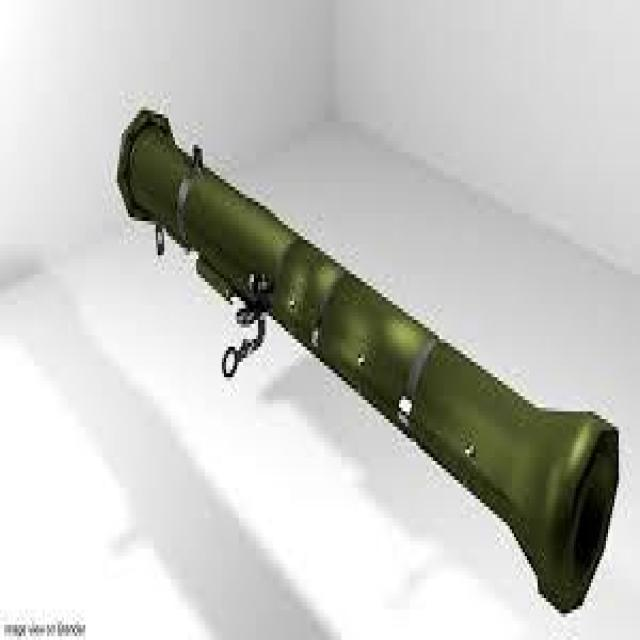bazooka: (110, 90, 629, 640)
